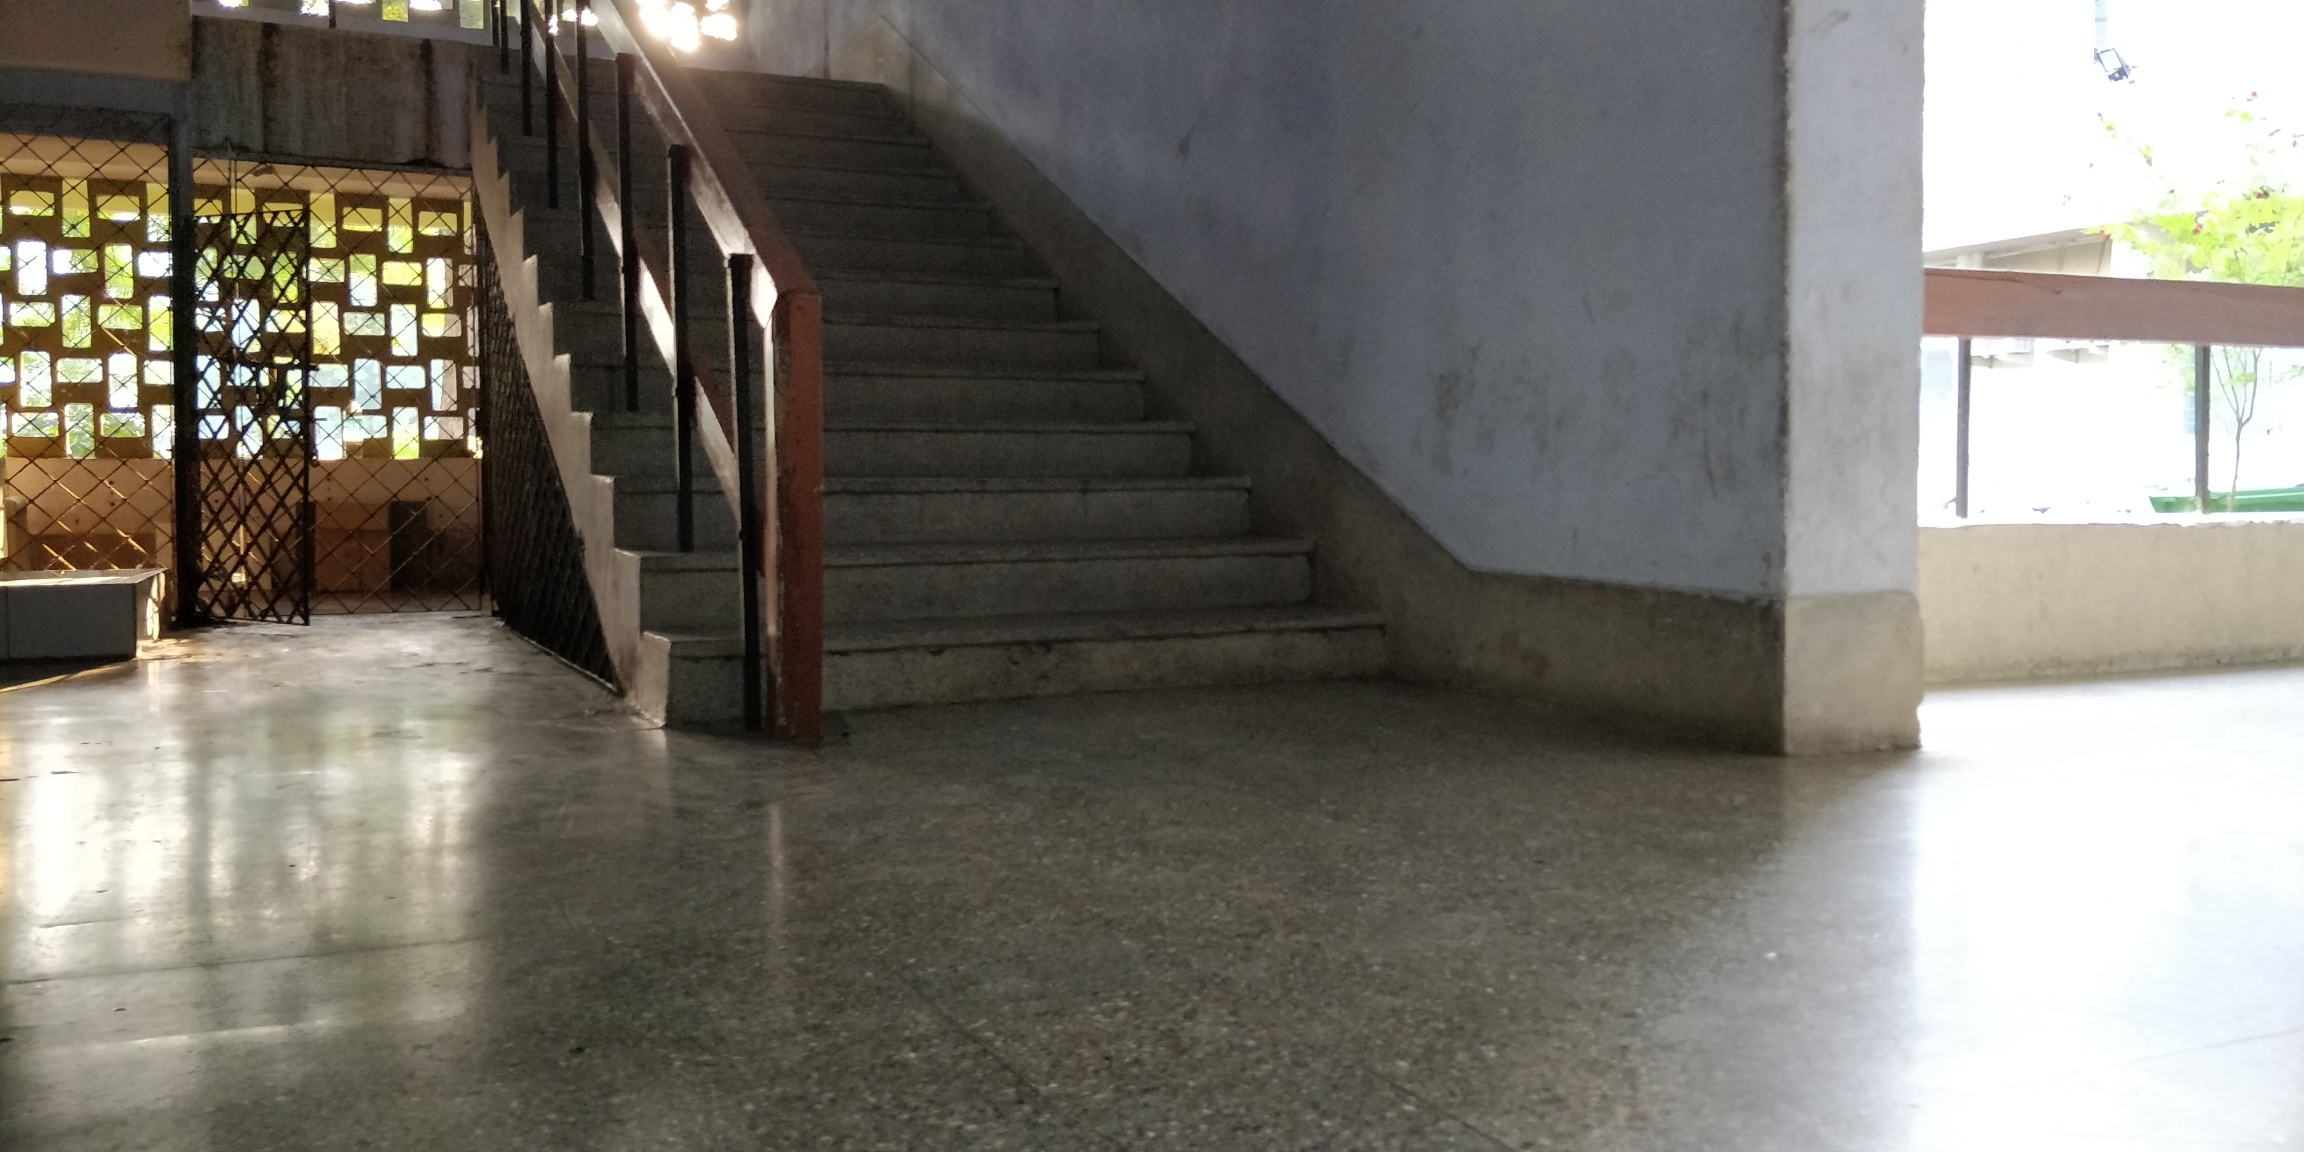stairs_up: (463, 40, 1399, 708)
